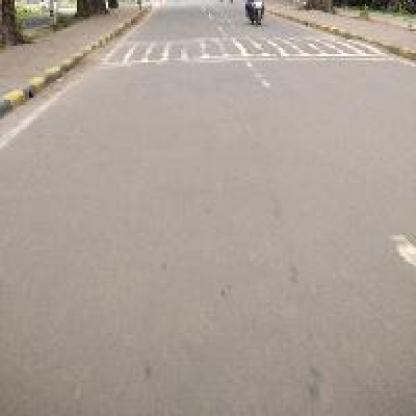Speed Bump: (100, 34, 391, 64)
